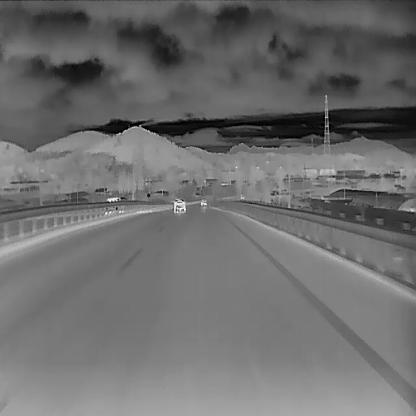car: (105, 196, 123, 214), (172, 198, 187, 212), (200, 198, 207, 206)
